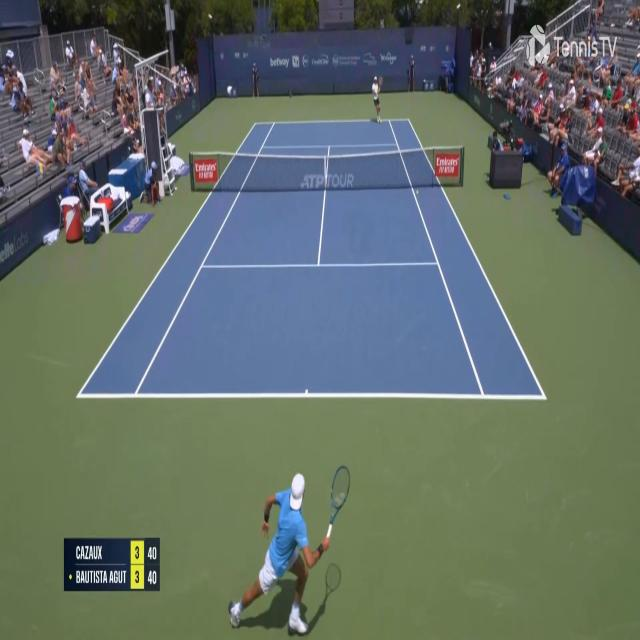tennis-player: (248, 464, 352, 639), (370, 75, 382, 124)
